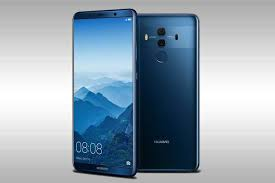huawei: (70, 6, 136, 176), (136, 10, 202, 172)
